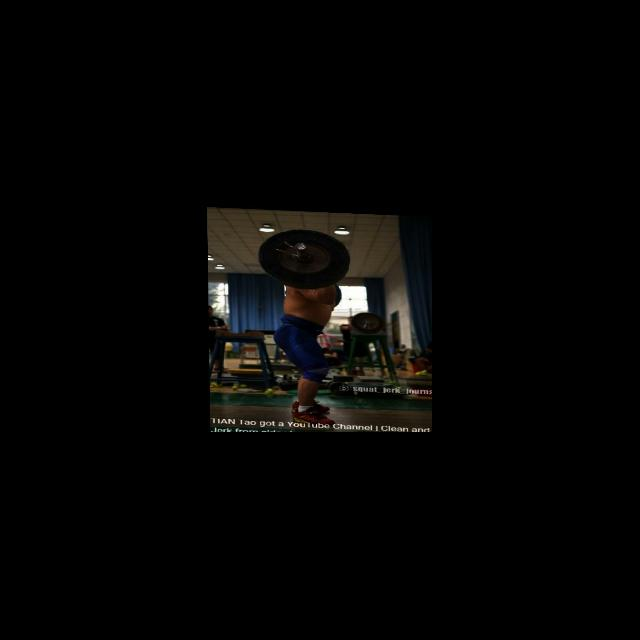barbell: (255, 223, 351, 291)
